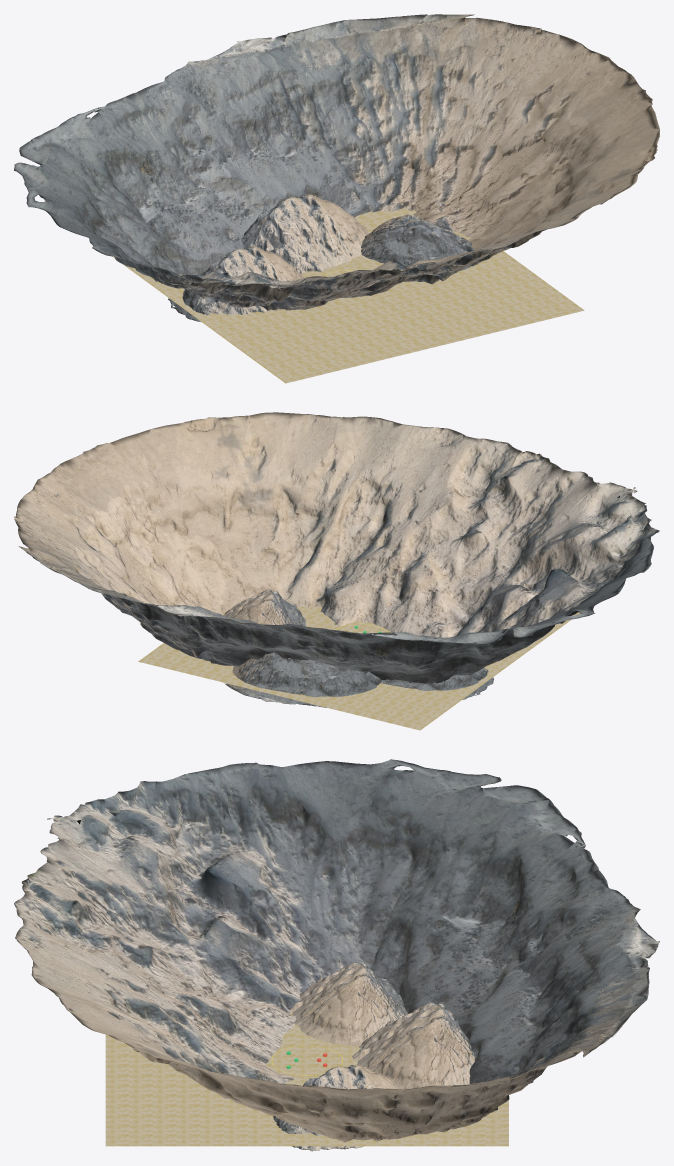
The model's file is arena_blockout.glb.
3 renders of one model, top to bottom at view 1: azimuth 30°, elevation 25°; view 2: azimuth 150°, elevation 25°; view 3: azimuth 270°, elevation 25°, orthographic. The views are drawn at different scales.
Visible parts, largest first — view 1: 3DModel_LowPoly (×4), Ground.001; view 2: 3DModel_LowPoly (×4), Ground.001; view 3: 3DModel_LowPoly (×4), Ground.001.
Boxes of the visible parts, x1=… form: 3DModel_LowPoly (×4): x1=14, y1=14, x2=659, y2=321; Ground.001: x1=113, y1=208, x2=584, y2=383; 3DModel_LowPoly (×4): x1=14, y1=412, x2=659, y2=707; Ground.001: x1=138, y1=606, x2=580, y2=730; 3DModel_LowPoly (×4): x1=14, y1=759, x2=659, y2=1151; Ground.001: x1=105, y1=1011, x2=508, y2=1146.
Size of the model in its own units: 33.21 by 8.73 by 27.17.
9 materials, 2 textured.
